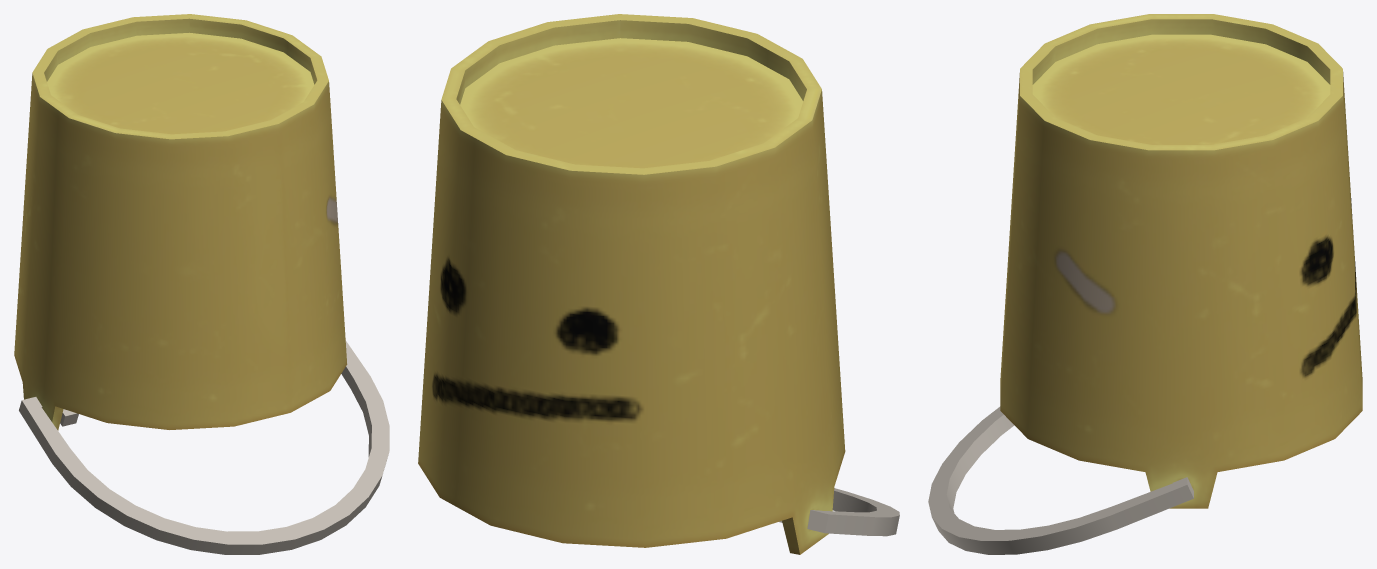
File: IG_Helmat_Bucket.fbx
3 views of the same model, side by side, from view 1: azimuth 30°, elevation 25°; view 2: azimuth 150°, elevation 25°; view 3: azimuth 270°, elevation 25° (orthographic). The views are drawn at different scales.
Visible parts, largest first — view 1: Model; view 2: Model; view 3: Model.
Boxes of the visible parts, <box> form: Model: <box>14,14,389,554</box>; Model: <box>418,14,899,554</box>; Model: <box>928,14,1362,554</box>.
Bounding box in the file's own units: 0.7606 × 0.9025 × 0.8193.
